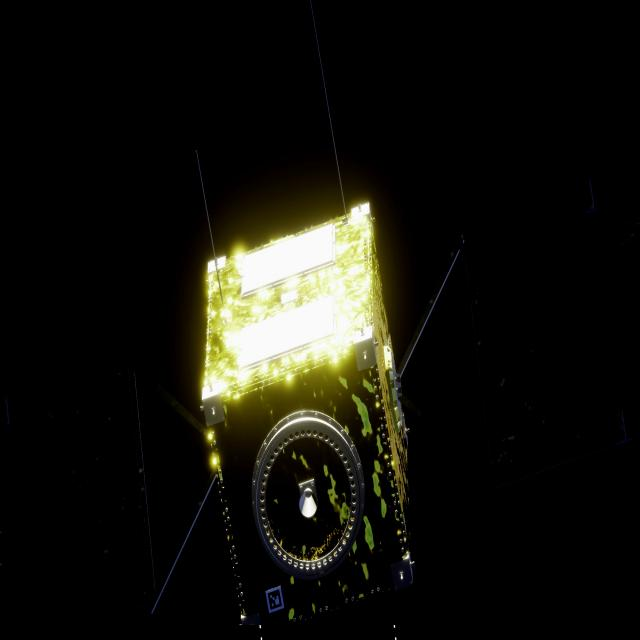satellite: (202, 203, 416, 640)
